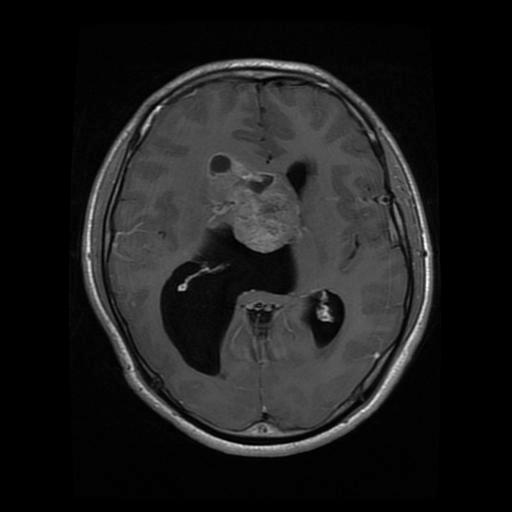Tumour-Glioma: (207, 158, 312, 251)
